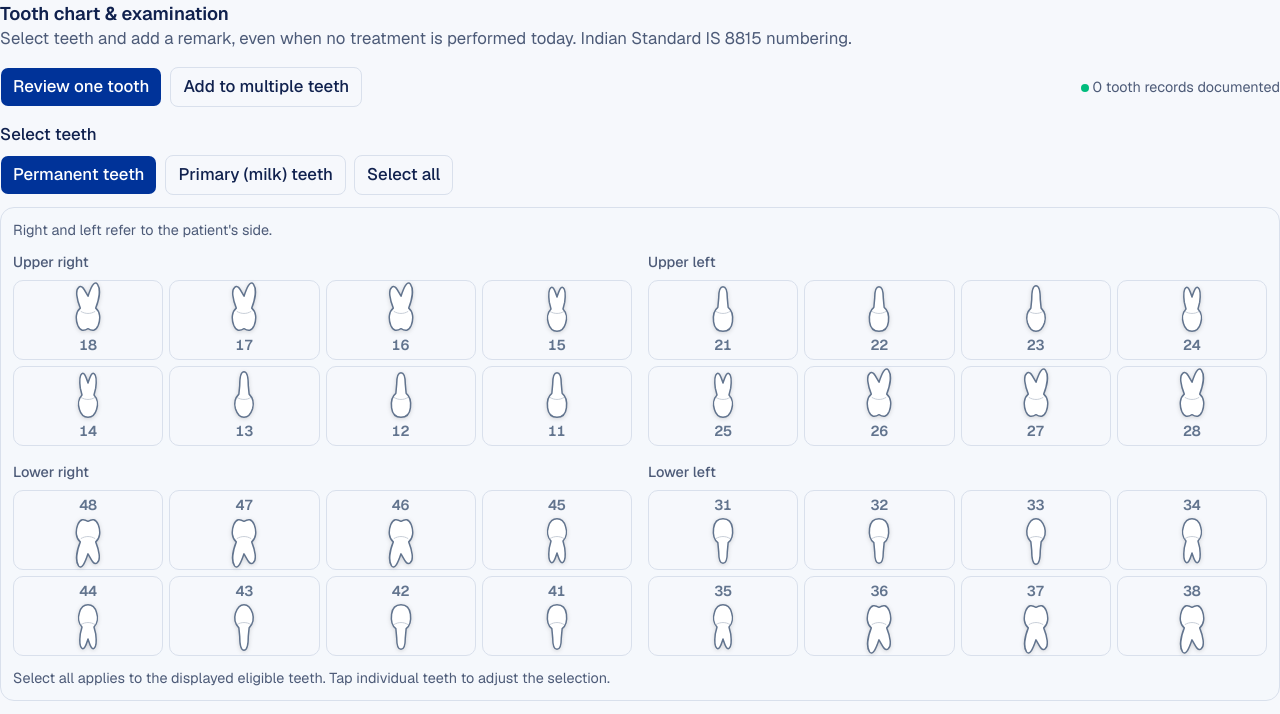
Scenario: OdontogramEditor › records a general Indian Standard tooth assessment without a treatment
Click the button named "11, Upper right central incisor": coordinates (557, 406) [482,366,632,446]
(page scrolled)
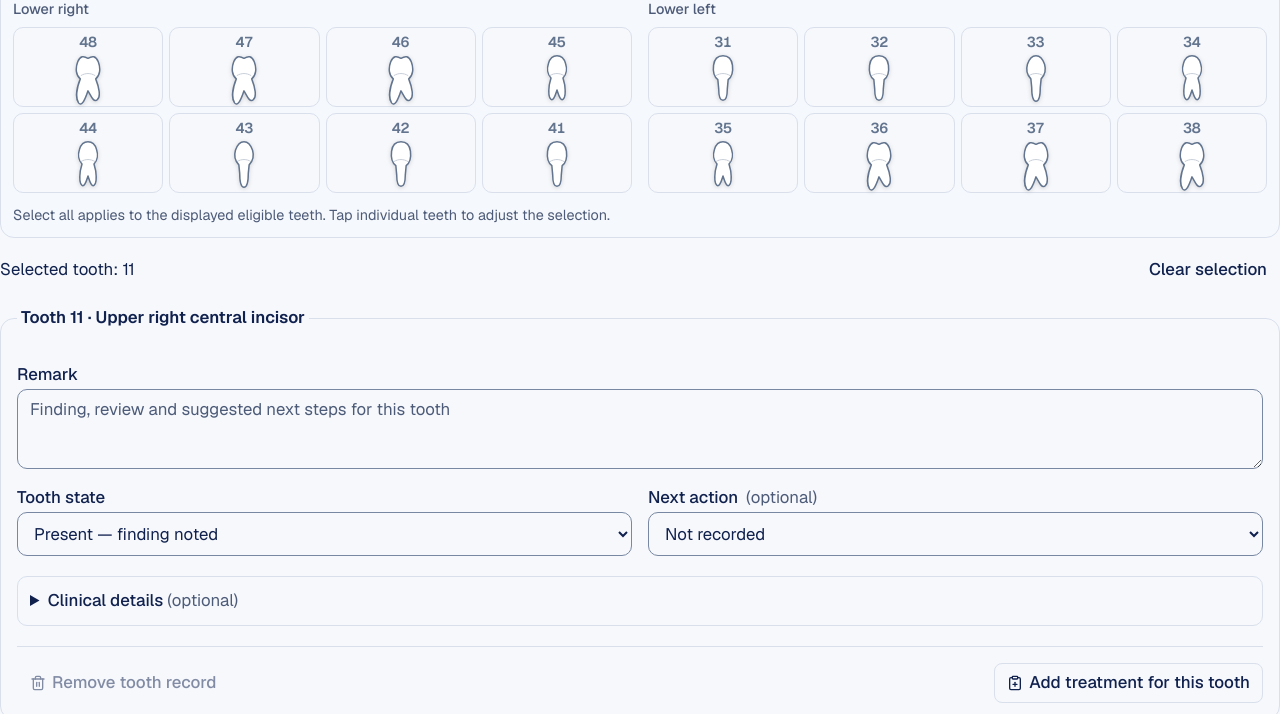
Result: the text "Tooth 11 · Upper right central incisor" is shown at [17,306,309,330]
Select "Sound / healthy" in the dropdown labelled "Tooth state": coordinates (324, 534) [17,512,632,556]
(page scrolled)
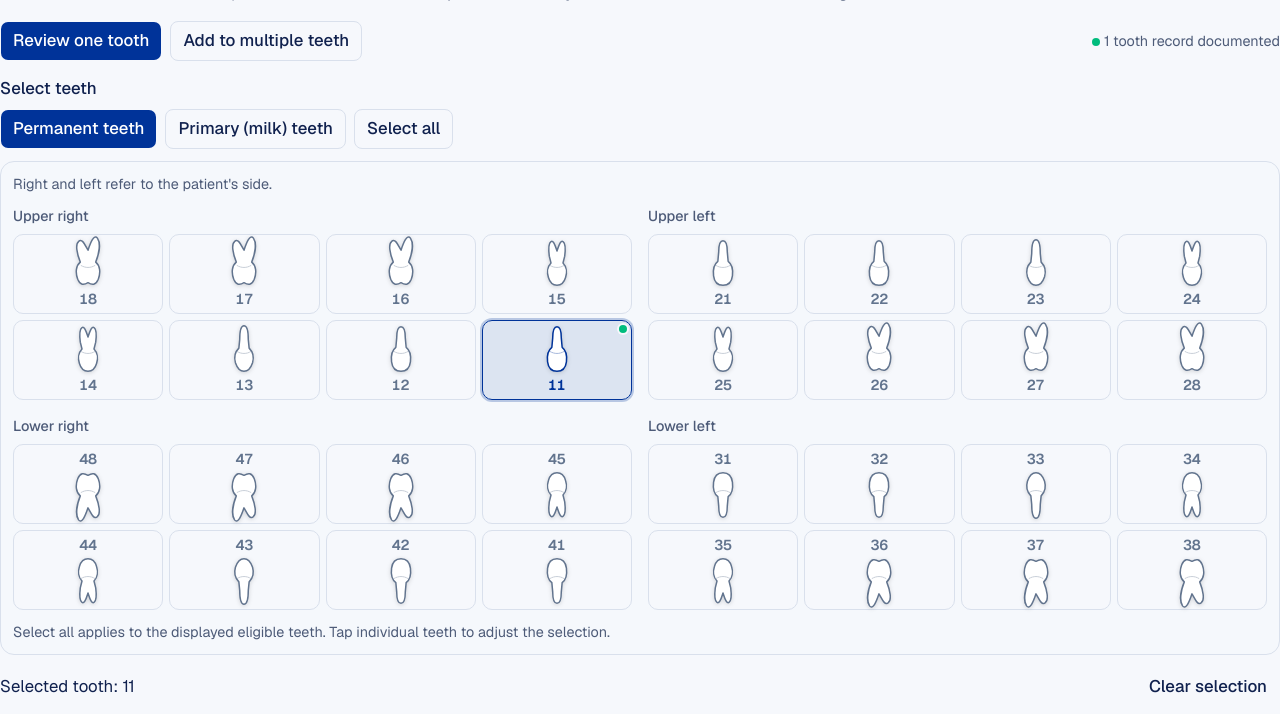
Result: the text "1 tooth record documented" is shown at [1092,31,1279,51]
